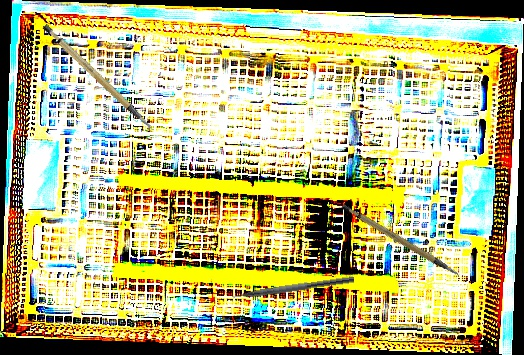Chopper: (222, 266, 355, 304)
Scalpel Handle: (40, 11, 154, 146), (339, 189, 462, 295)
